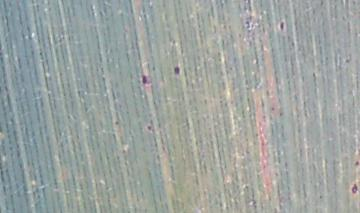tarspot: (350, 182, 359, 196), (172, 64, 181, 77), (278, 20, 286, 33), (140, 73, 148, 86), (146, 123, 152, 132), (353, 159, 359, 167), (113, 119, 120, 125), (344, 58, 350, 64)
